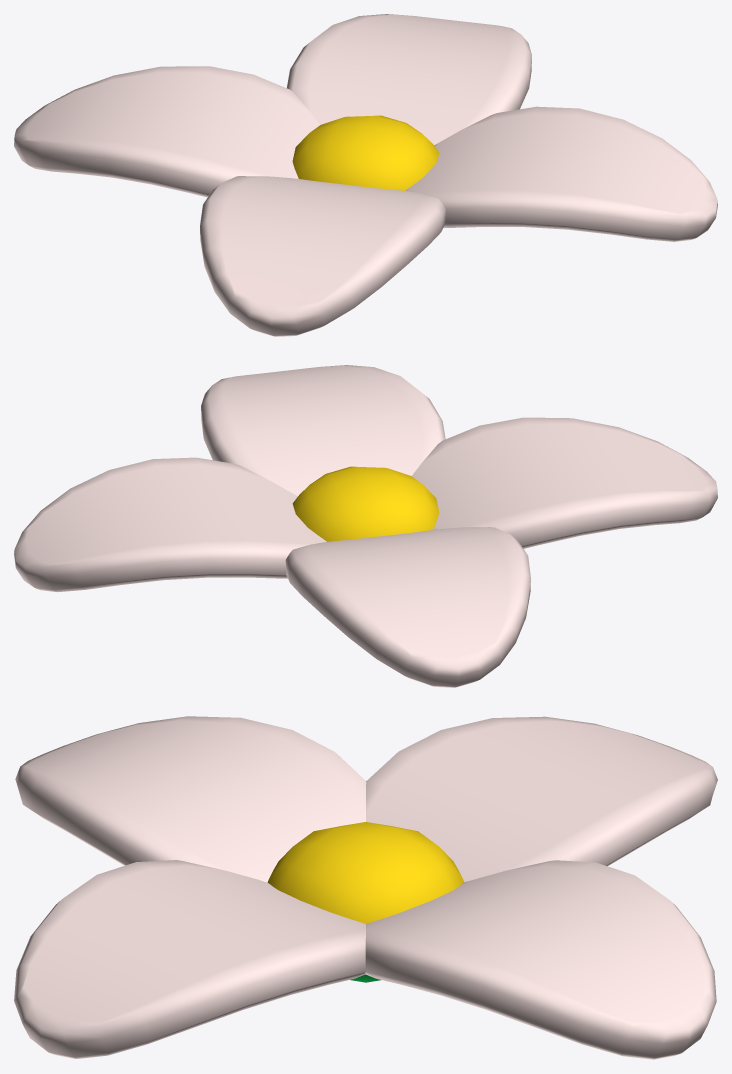
The model's file is Town_20_Flower_1.glb.
The picture shows the model from 3 angles, top to bottom: view 1: azimuth 30°, elevation 25°; view 2: azimuth 150°, elevation 25°; view 3: azimuth 270°, elevation 25°; orthographic projection. The views are drawn at different scales.
Parts seen in each view (by area): view 1: Town_20_Flower_1; view 2: Town_20_Flower_1; view 3: Town_20_Flower_1.
Boxes of the visible parts, <box> form: Town_20_Flower_1: <box>14,14,717,336</box>; Town_20_Flower_1: <box>14,365,717,687</box>; Town_20_Flower_1: <box>14,716,717,1059</box>.
Bounding box in the file's own units: 0.3846 × 0.0804 × 0.3846.
1 material, 1 textured.
